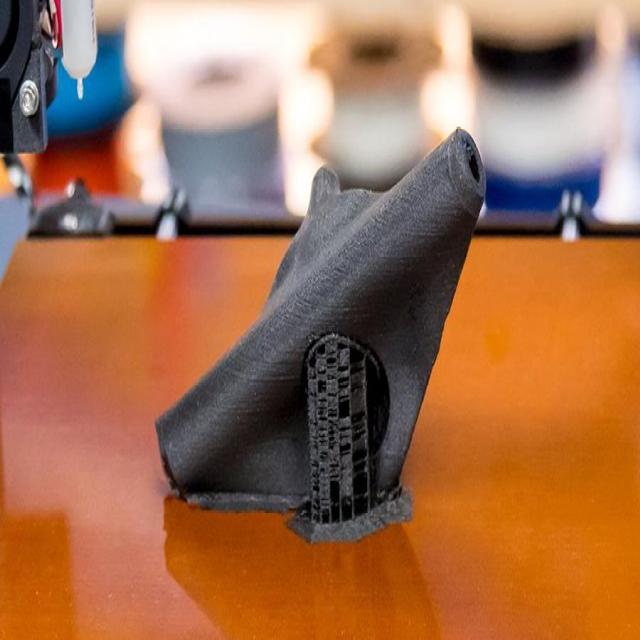Without deffect: (134, 138, 489, 540)
